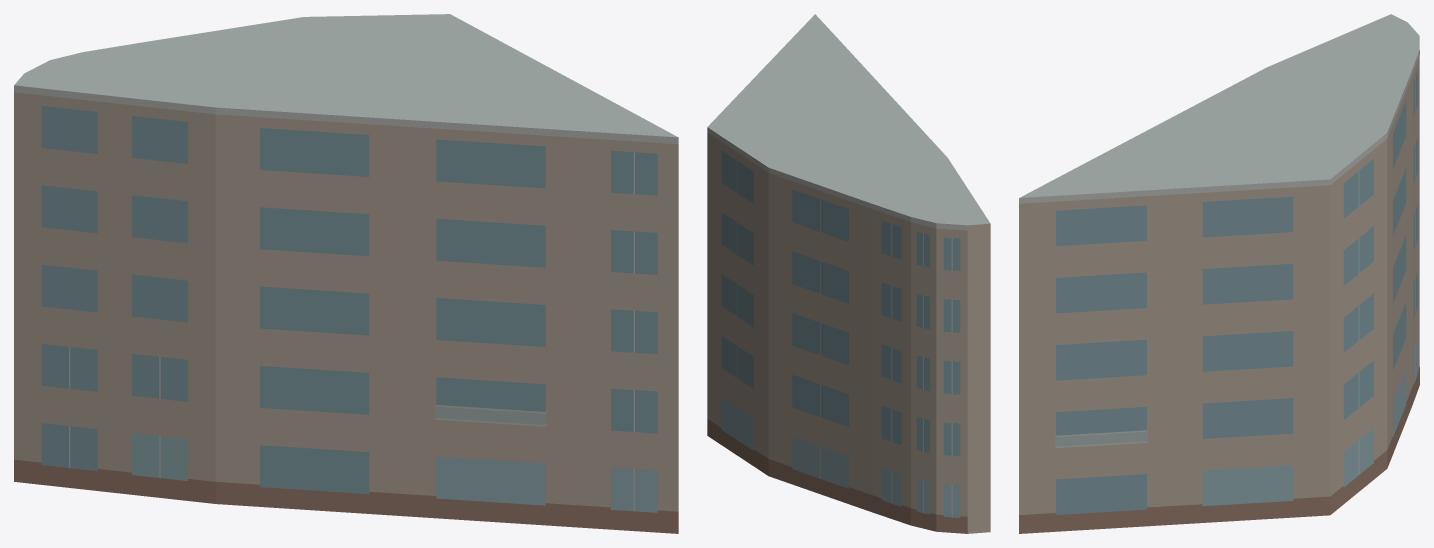
File: survey-upis-32642440.glb
The picture shows the model from 3 angles, left to right: view 1: azimuth 30°, elevation 25°; view 2: azimuth 150°, elevation 25°; view 3: azimuth 270°, elevation 25°; orthographic projection. The views are drawn at different scales.
Visible parts, largest first — view 1: survey-upis-32642440.tmp; view 2: survey-upis-32642440.tmp; view 3: survey-upis-32642440.tmp.
Part boxes in pixels (x1,y1,x2,y2): survey-upis-32642440.tmp: (14,14,678,533); survey-upis-32642440.tmp: (707,14,990,533); survey-upis-32642440.tmp: (1019,14,1419,533).
Size of the model in its own units: 16.69 by 14.2 by 15.36.
